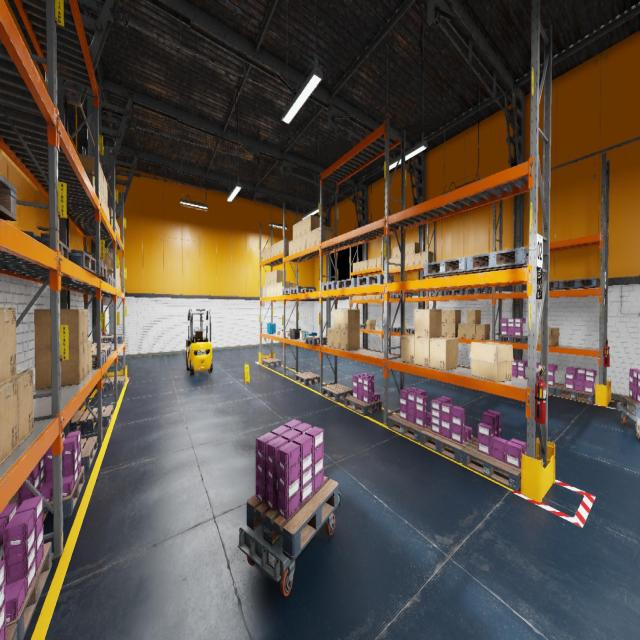box: (35, 344, 84, 389), (34, 309, 84, 348), (469, 341, 514, 382), (0, 378, 18, 464), (16, 370, 34, 447), (0, 307, 17, 385), (429, 336, 458, 371), (77, 153, 101, 190), (415, 309, 441, 338), (414, 336, 430, 366), (95, 251, 116, 273), (538, 327, 560, 346), (340, 330, 360, 350), (402, 334, 414, 364), (341, 310, 359, 330), (316, 226, 333, 244), (84, 168, 95, 191), (306, 214, 319, 233), (475, 324, 490, 340), (467, 309, 480, 324), (83, 309, 88, 343), (280, 282, 293, 295), (448, 323, 460, 337), (274, 270, 286, 283), (448, 310, 460, 323), (421, 251, 433, 264), (84, 342, 88, 379), (466, 324, 476, 338), (88, 340, 92, 374), (280, 240, 291, 252), (409, 242, 420, 254), (334, 309, 340, 329), (458, 323, 466, 338), (334, 329, 340, 348), (366, 320, 376, 330), (328, 328, 333, 347), (311, 229, 316, 246), (306, 231, 311, 248), (301, 218, 306, 235), (301, 234, 306, 250), (414, 252, 420, 265), (108, 207, 112, 226), (297, 220, 301, 238), (392, 246, 398, 258), (392, 257, 398, 269), (377, 257, 384, 267), (292, 223, 296, 240), (442, 323, 447, 336), (297, 236, 301, 252), (292, 238, 296, 254), (107, 268, 113, 278), (442, 310, 447, 322), (409, 254, 414, 266), (101, 167, 103, 196), (289, 240, 292, 255), (372, 258, 376, 268), (368, 259, 372, 269), (364, 260, 368, 270), (356, 261, 360, 271), (277, 241, 280, 254), (271, 244, 274, 257), (277, 282, 280, 295), (405, 243, 408, 256), (102, 192, 104, 210), (274, 243, 277, 255), (268, 246, 271, 258), (265, 248, 268, 260), (271, 284, 274, 296), (268, 284, 271, 296), (268, 272, 271, 284), (265, 273, 268, 285), (360, 261, 364, 270), (265, 285, 268, 296), (389, 258, 392, 269), (116, 273, 118, 289), (353, 262, 356, 272), (104, 173, 105, 201), (106, 180, 107, 206), (274, 283, 276, 296), (271, 271, 273, 284), (282, 328, 288, 332), (376, 294, 382, 298), (406, 254, 408, 266), (398, 245, 400, 257), (398, 256, 400, 268), (263, 249, 265, 260), (263, 286, 265, 297), (104, 197, 105, 214), (100, 188, 101, 204), (106, 202, 107, 218), (108, 206, 109, 222), (118, 274, 119, 290), (286, 332, 290, 336), (282, 332, 286, 336), (372, 294, 376, 298), (352, 296, 356, 300), (276, 331, 281, 334), (368, 295, 371, 299), (364, 295, 367, 299), (356, 296, 359, 300), (115, 219, 116, 229), (117, 222, 118, 232), (118, 225, 119, 234), (360, 296, 363, 299), (119, 228, 120, 236), (118, 268, 119, 275), (280, 331, 282, 334), (116, 269, 117, 273), (119, 276, 119, 290), (120, 277, 120, 291), (119, 260, 119, 276)
forklift: (186, 308, 212, 374)
pallets: (247, 476, 338, 560), (6, 542, 52, 640), (7, 466, 84, 521), (461, 439, 521, 491), (420, 426, 477, 463), (466, 247, 529, 273), (21, 230, 68, 259), (388, 413, 430, 442), (69, 405, 113, 432), (424, 258, 479, 278), (0, 173, 17, 220), (344, 395, 382, 415), (555, 385, 595, 403), (69, 249, 96, 274), (322, 383, 352, 402), (81, 436, 97, 471), (620, 394, 640, 418), (558, 278, 600, 289), (357, 274, 393, 286), (526, 280, 563, 290), (102, 376, 125, 390), (295, 372, 319, 385), (92, 350, 107, 368), (92, 346, 111, 360), (93, 260, 107, 278), (322, 281, 350, 290), (304, 335, 327, 345), (336, 278, 356, 289), (498, 336, 528, 343), (290, 286, 316, 294), (102, 335, 125, 344), (6, 624, 17, 640), (92, 342, 111, 351), (262, 358, 281, 367), (465, 288, 492, 294), (548, 384, 560, 396), (102, 277, 115, 288), (444, 289, 465, 295), (103, 274, 112, 286), (396, 327, 414, 333), (383, 326, 399, 332), (429, 290, 444, 296), (392, 293, 412, 297), (382, 294, 400, 298), (282, 288, 292, 294), (360, 324, 366, 328), (410, 328, 414, 334)
